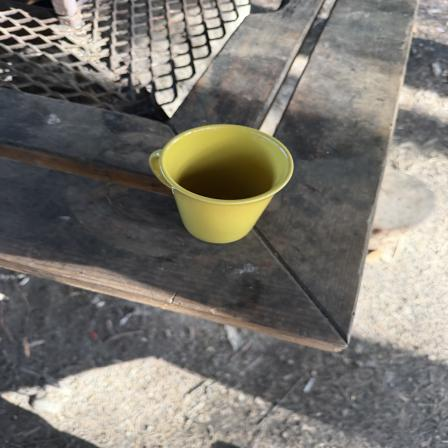yellow_cup: (149, 123, 294, 246)
